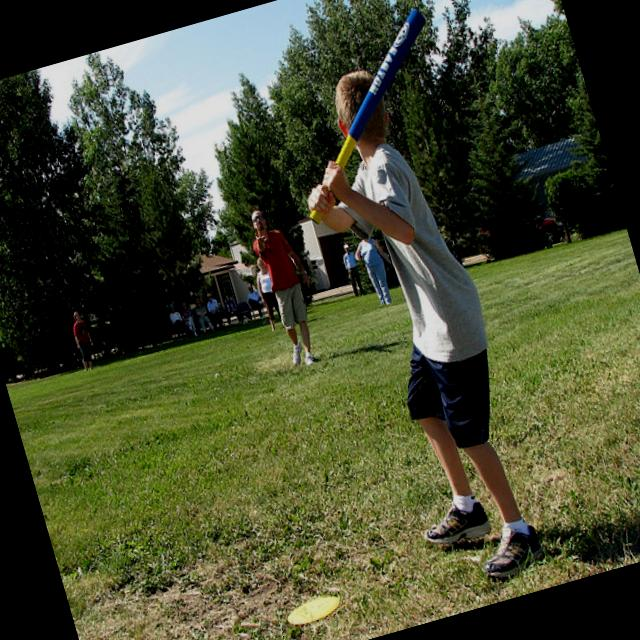Vehicle: (534, 212, 568, 248)
